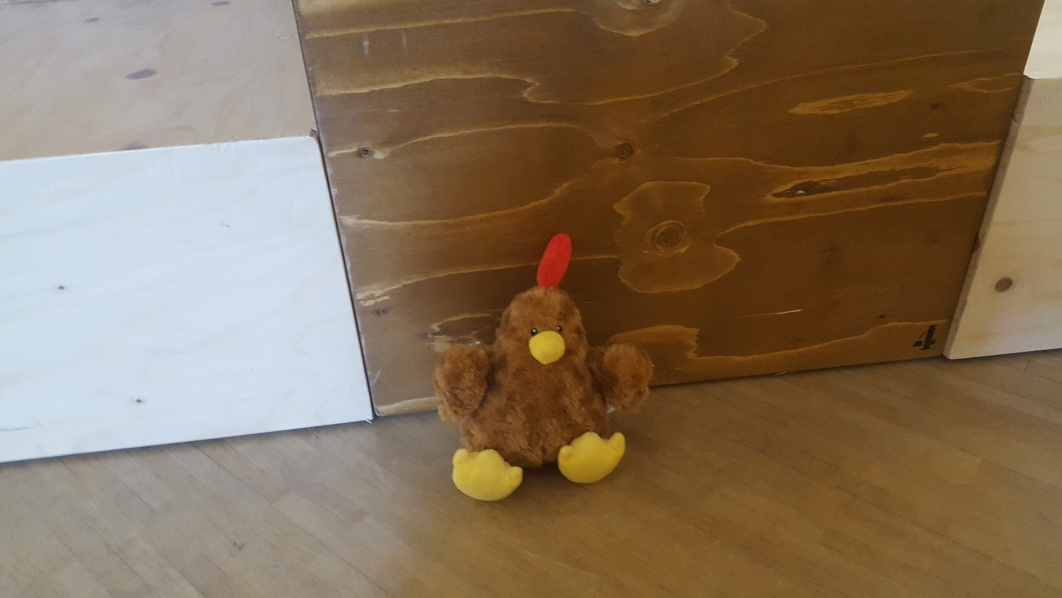chicken: (433, 234, 656, 499)
